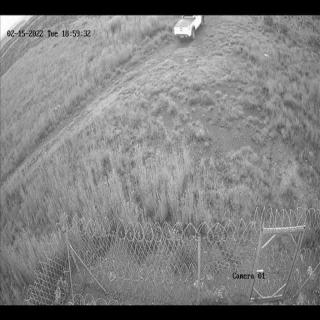car: (172, 14, 204, 42)
